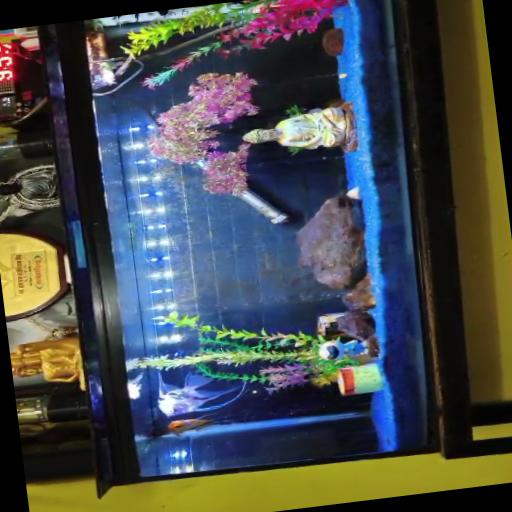Fish: (158, 372, 246, 415), (167, 415, 232, 436), (128, 373, 143, 398)
